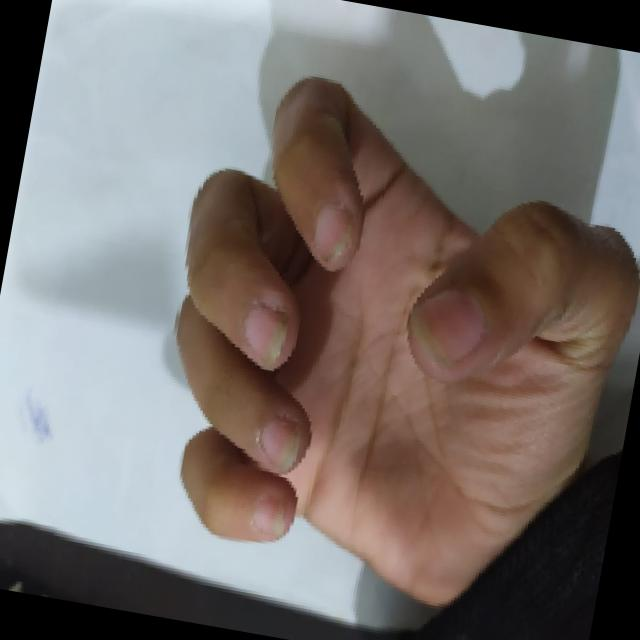Nail: (412, 286, 485, 362), (244, 303, 287, 365), (257, 416, 301, 472), (314, 203, 352, 265), (251, 489, 287, 536)
